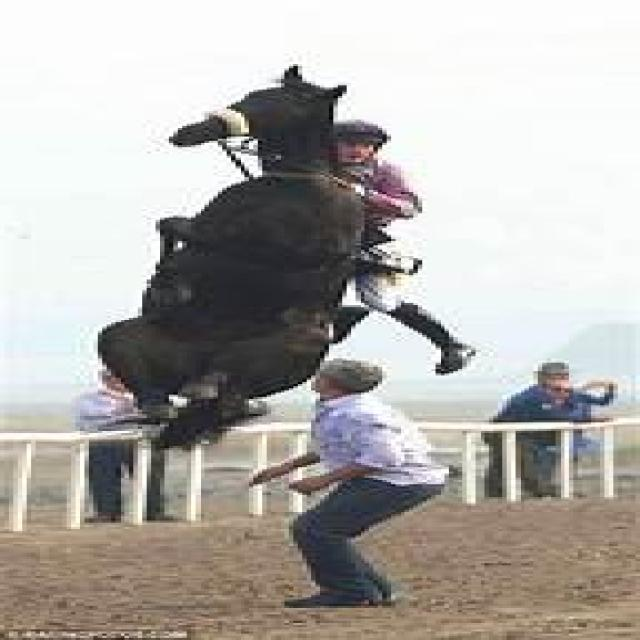horse: (99, 68, 362, 446)
